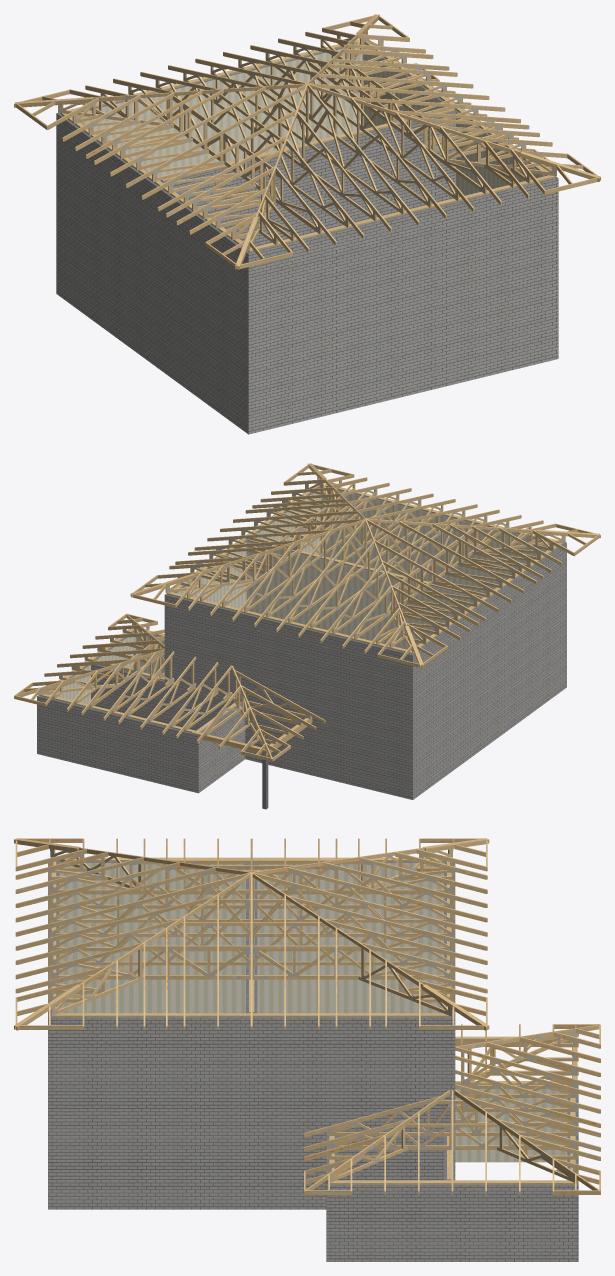
3 renders of one model, top to bottom at view 1: azimuth 30°, elevation 25°; view 2: azimuth 150°, elevation 25°; view 3: azimuth 270°, elevation 25°, orthographic. The views are drawn at different scales.
Parts seen in each view (by area): view 1: skfb_offset; view 2: skfb_offset; view 3: skfb_offset.
Part boxes in pixels (x1,y1,x2,y2): skfb_offset: (14,14,600,434); skfb_offset: (14,463,600,809); skfb_offset: (14,838,600,1261).
Size of the model in its own units: 14964 by 7600 by 15711.
Materials: 6 (6 with a texture image).
